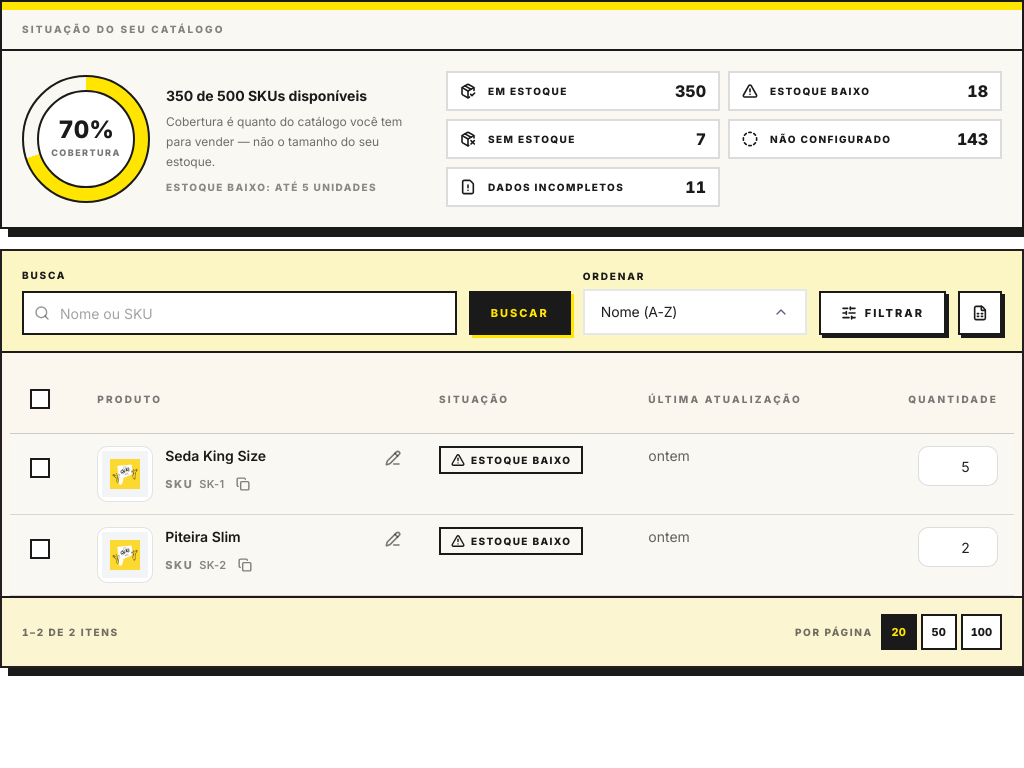
Scenario: VendorStockManager seleção em lote › applies one quantity to every selected product in a single request
Click the checkbox named "Selecionar todos os produtos desta página". click: (40,399)
box: top-left (30, 389), bottom-right (50, 409)
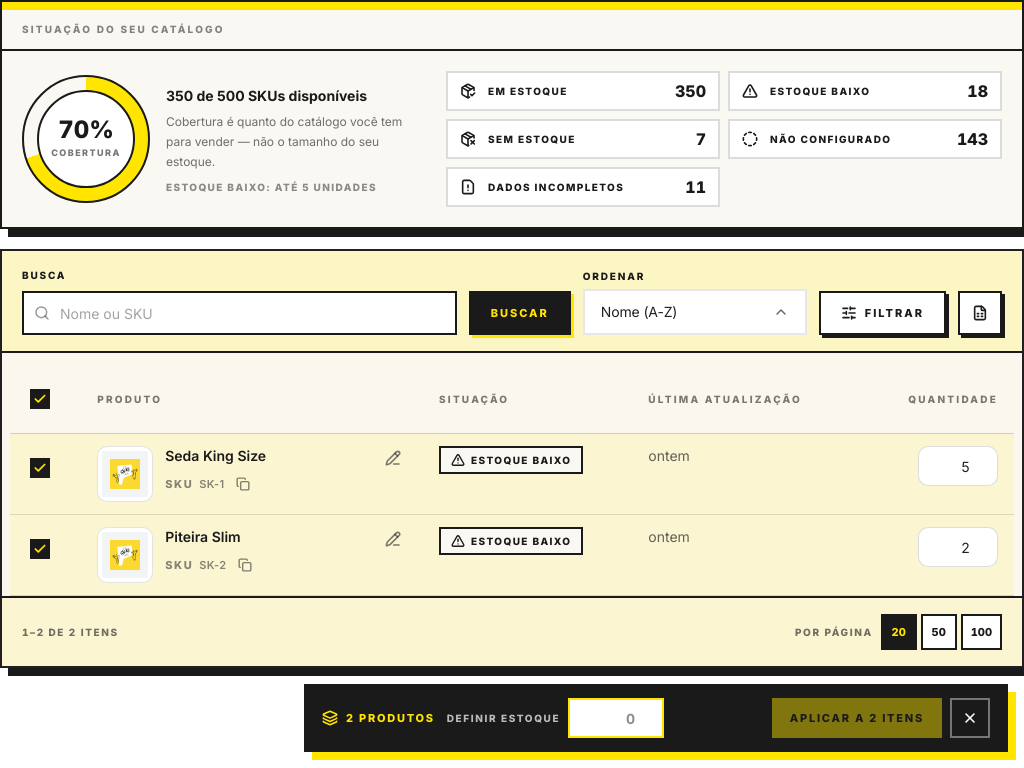
Now the text "2 produtos" is shown, box top-left (322, 710), bottom-right (435, 726)
Type "15" into the number field labelled "Definir estoque". click: (616,718)
box: top-left (568, 698), bottom-right (664, 738)
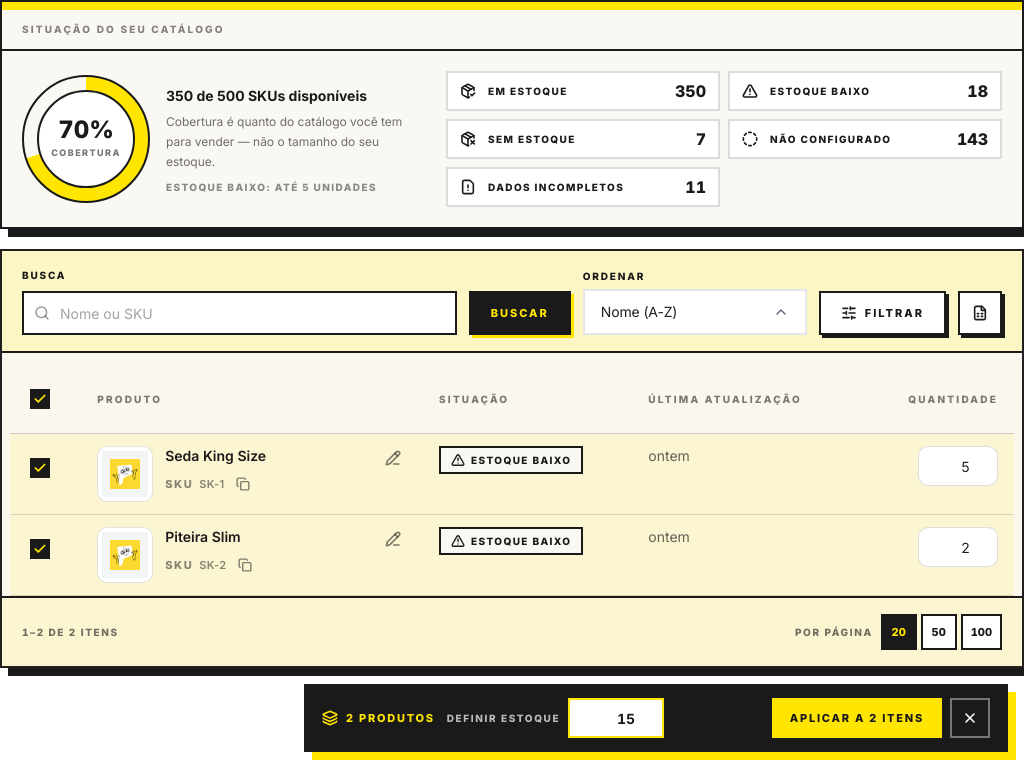
Click the button "Aplicar a 2 itens". click: (857,718)
box: top-left (772, 698), bottom-right (942, 738)
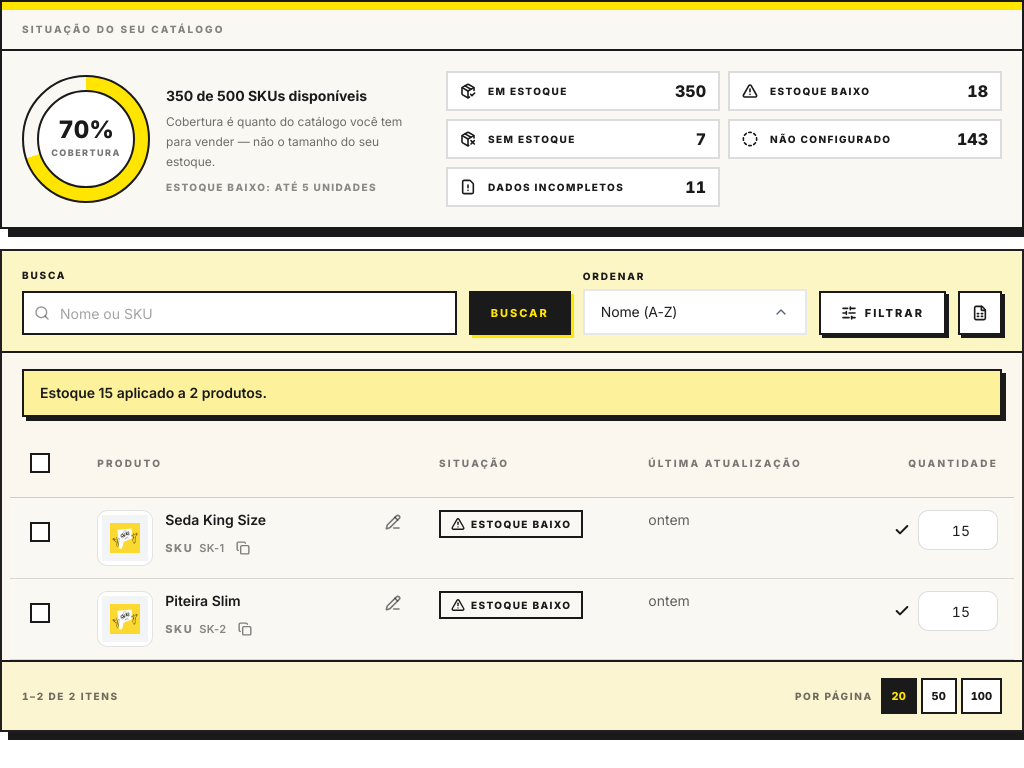
Now the text "Estoque 15 aplicado a 2 produtos." is shown, box top-left (40, 384), bottom-right (267, 401)
Now the number field named "quantidade de seda king size" holds "15", box top-left (918, 510), bottom-right (998, 550)
Now the number field named "quantidade de piteira slim" holds "15", box top-left (918, 591), bottom-right (998, 631)
